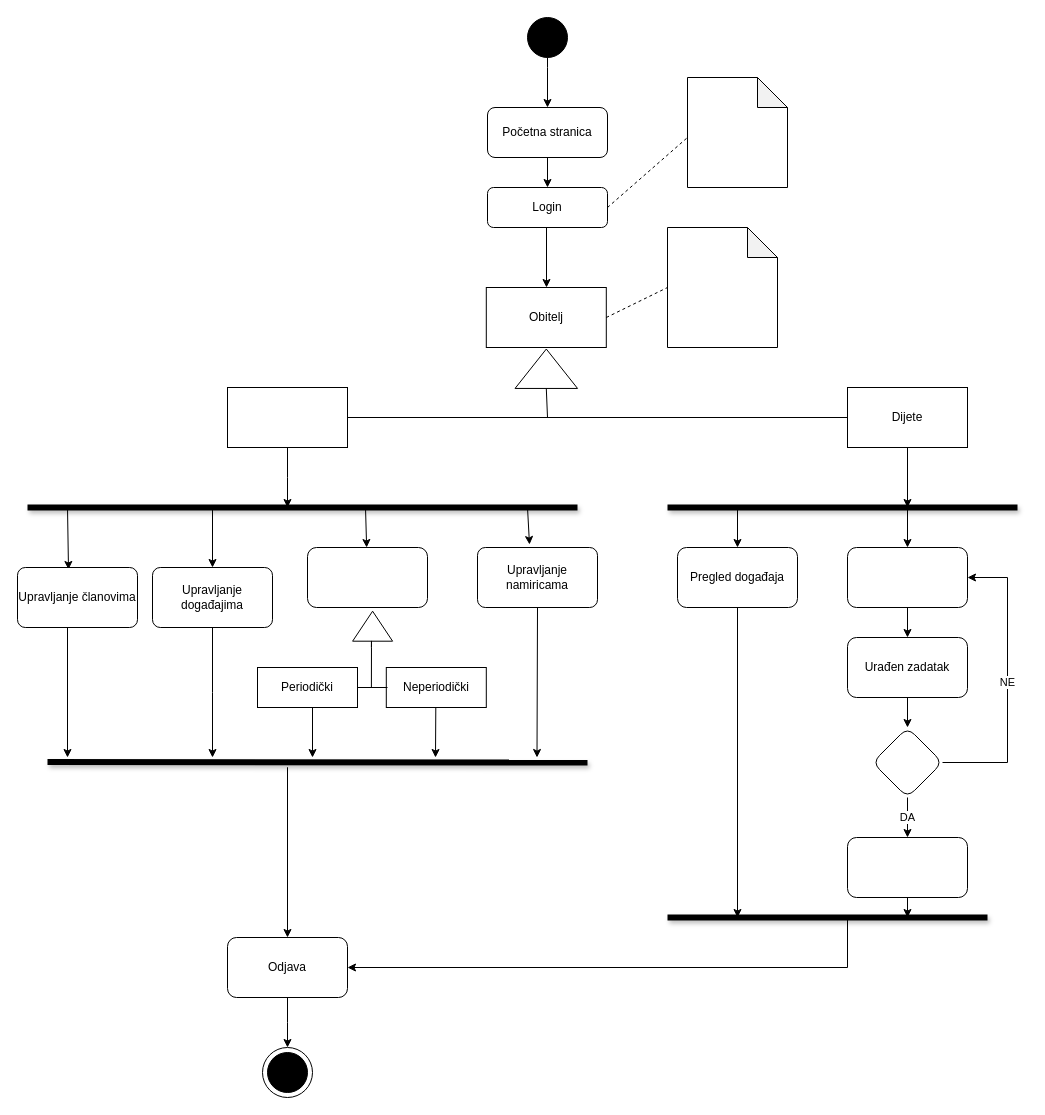
Some shapes in this 1045 by 1115 pixel diagram are drawn without their labels. Each missing label, with the centre of its shape:
Ograničavanje pristupa djetetu s dodatnim unosom lozinke: (x=722, y=287)
Pregled zadataka: (x=907, y=577)
Roditelj: (x=287, y=417)
Uklanjanje zadataka: (x=907, y=867)
Ukoliko korisnik nema račun mora se prvo registrirati: (x=737, y=132)
Upravljanje zadacima: (x=367, y=577)
